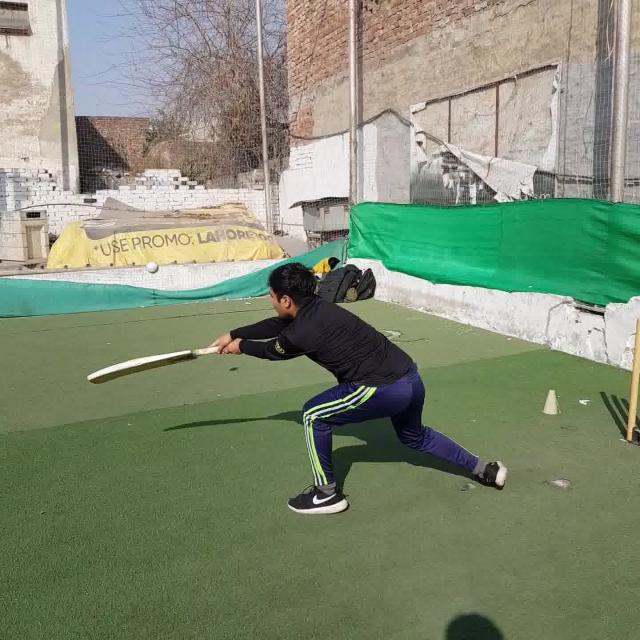ball: (147, 260, 158, 272)
bat: (88, 343, 238, 384)
